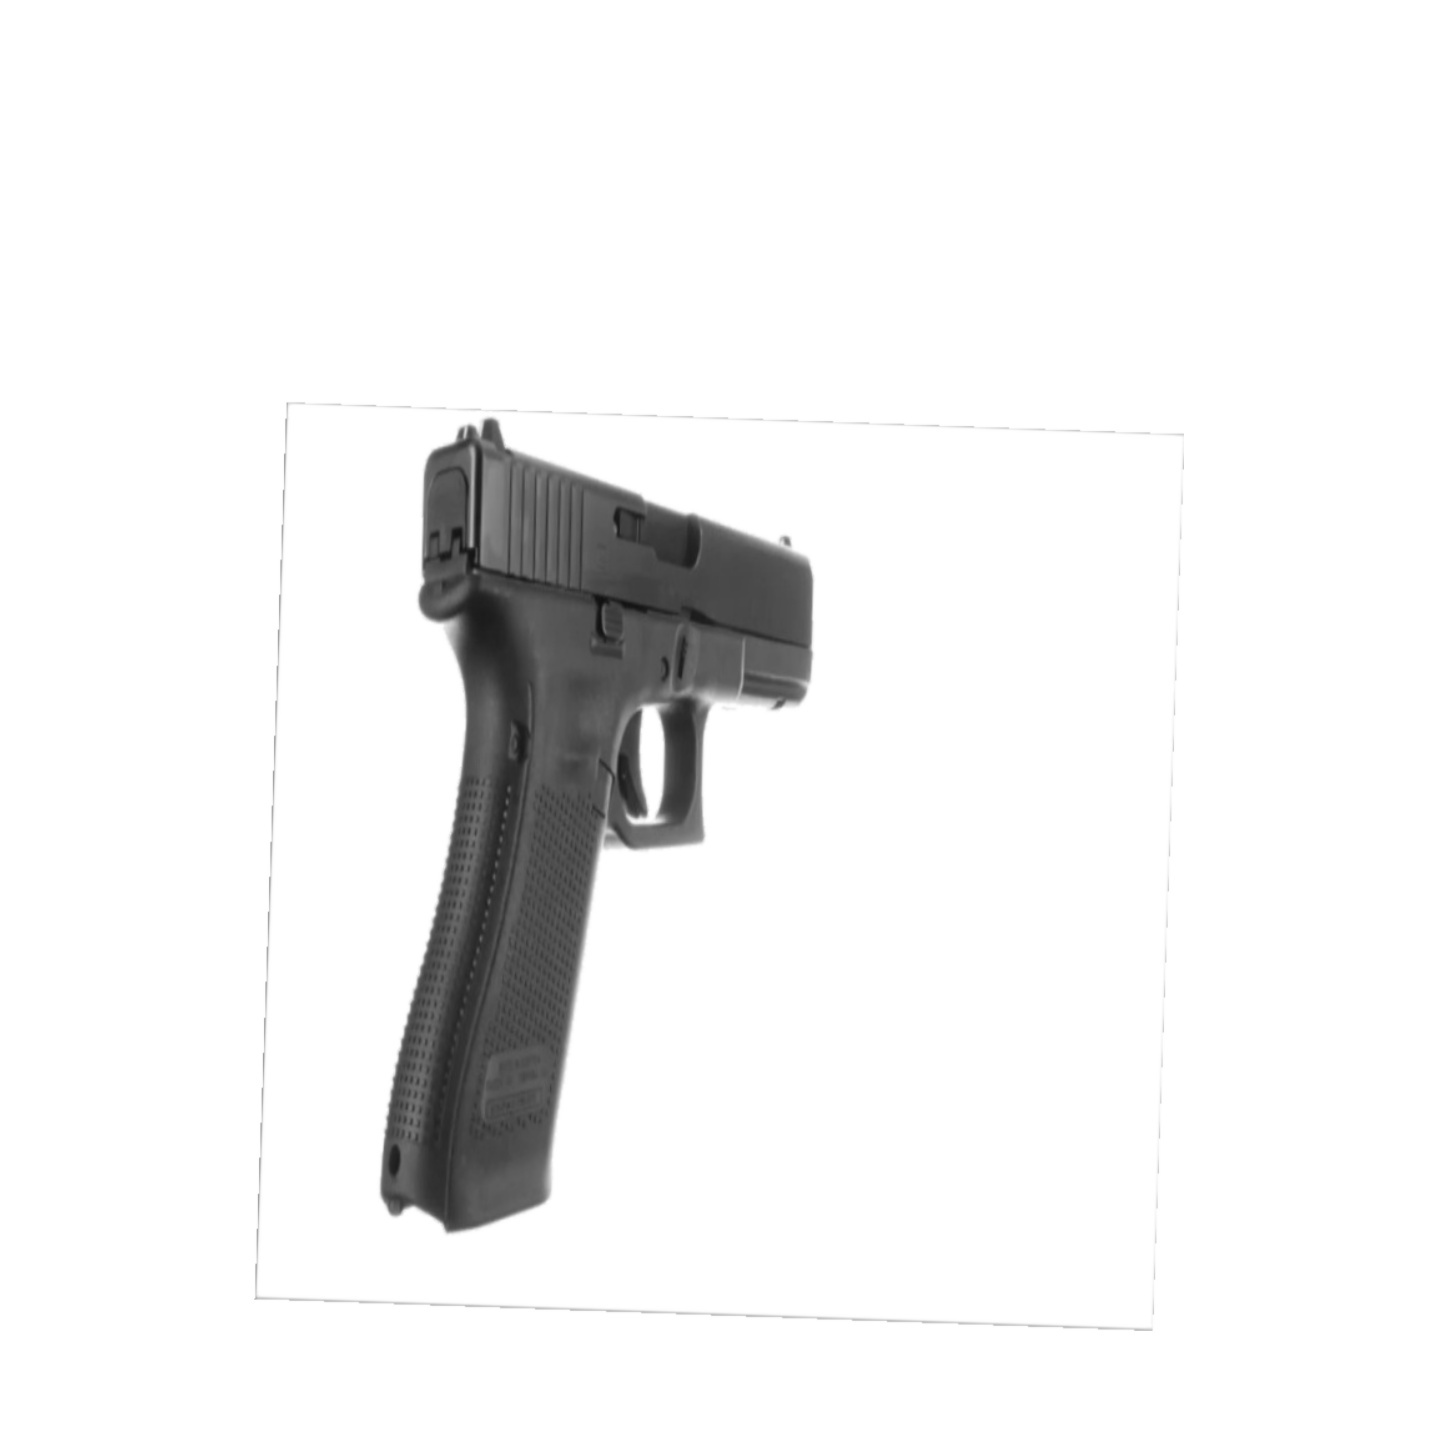gun: (377, 421, 816, 1227)
